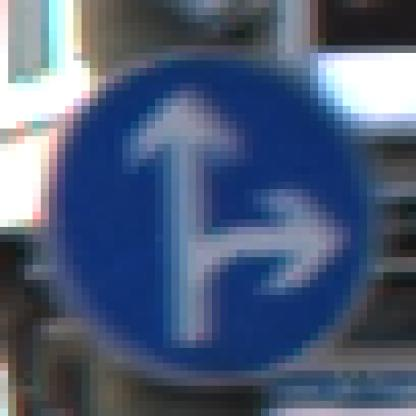Straight or Right: (42, 47, 376, 380)
